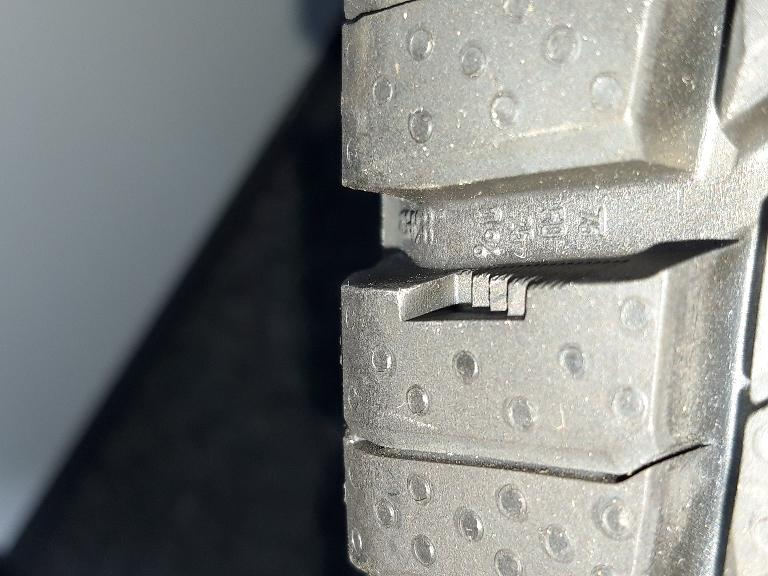temoin:100: (393, 257, 585, 331)
